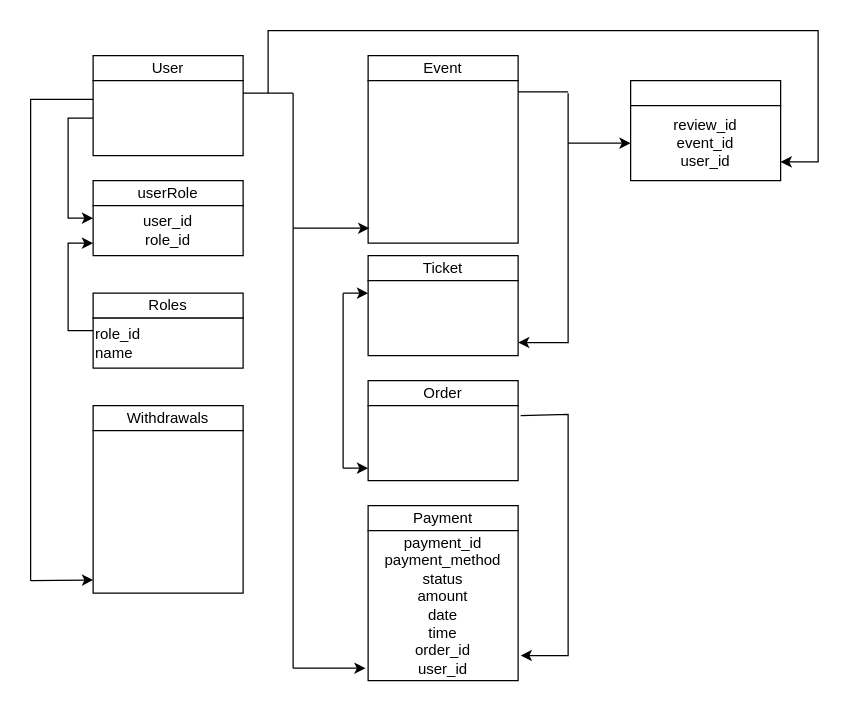
The diagram is 850 pixels wide and 703 high, and some of its shapes have lost their labels. The centre of each missing label's shape, as x and y in pixels:
"event_id name location date time description category user_id ticket quantity" belongs at pixel 442 161.
"order_id order_date order_time ticket_id" belongs at pixel 442 442.
"Reviews" belongs at pixel 705 92.
"ticket_id ticket_type ticket_price event_id" belongs at pixel 442 317.
"user_id username email password" belongs at pixel 167 117.
"withdrawal_id payment_method recipient_account amount date time status user_id" belongs at pixel 167 511.
